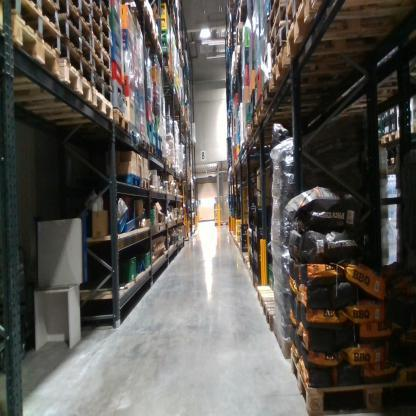pallets: (250, 0, 407, 128), (10, 2, 136, 139), (287, 338, 415, 414), (248, 283, 281, 336)
